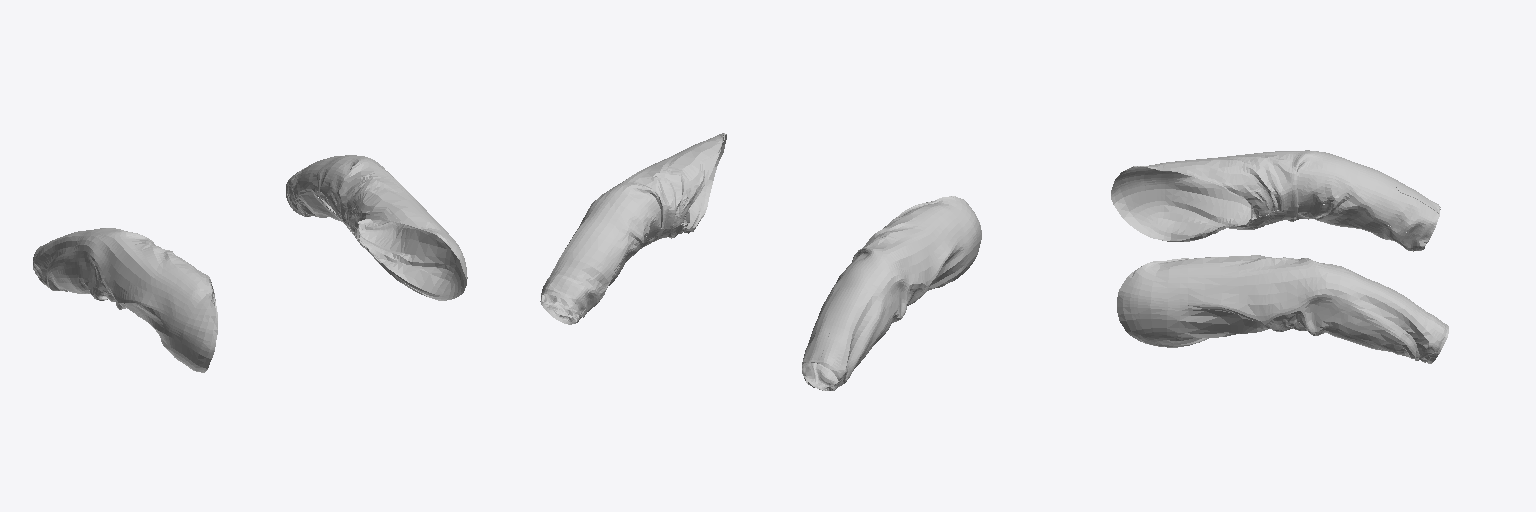
Rendered from fix_long_sleeve.obj.
3 renders of one model, left to right at view 1: azimuth 30°, elevation 25°; view 2: azimuth 150°, elevation 25°; view 3: azimuth 270°, elevation 25°, orthographic.
Parts seen in each view (by area): view 1: Object05; view 2: Object05; view 3: Object05.
Boxes of the visible parts, box(x1,y1,x2,y2) form: Object05: box(33, 155, 467, 372); Object05: box(540, 133, 981, 390); Object05: box(1111, 150, 1448, 363).
Size of the model in its own units: 53.73 by 18.18 by 51.8.